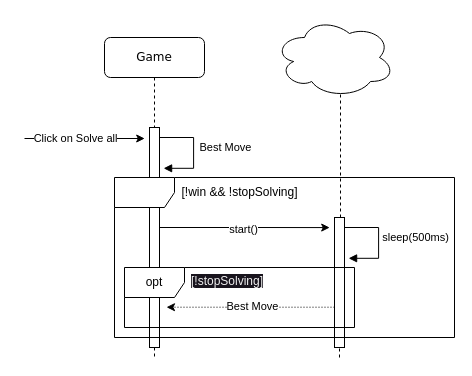
The diagram is 472 pixels wide and 376 high, and some of its shapes have lost their labels. Here are the shapes that lost their labels. From the top down, the centre of each, then its label:
At point (334, 57): "solvingThread".
At point (284, 257): "Loop".
